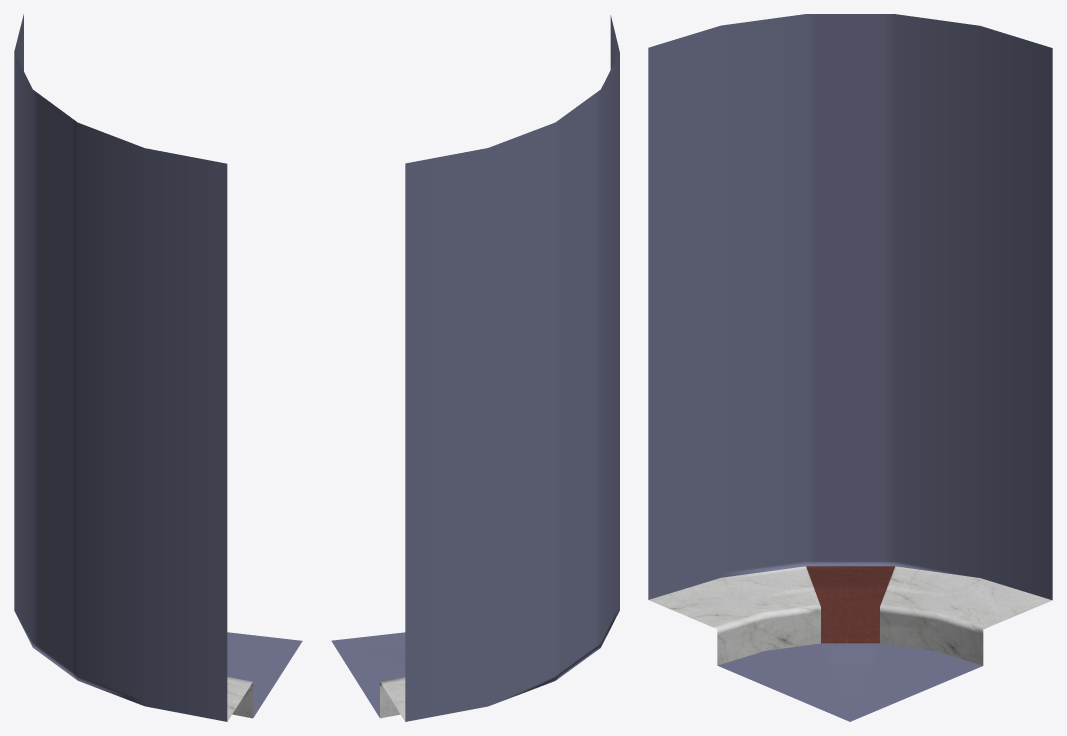
Rendered from dome_low 1.fbx.
The picture shows the model from 3 angles, left to right: view 1: azimuth 30°, elevation 25°; view 2: azimuth 150°, elevation 25°; view 3: azimuth 270°, elevation 25°; orthographic projection.
Visible parts, largest first — view 1: dome_low; view 2: dome_low; view 3: dome_low.
Boxes of the visible parts, x1,y1,x2,y2 form: dome_low: (14,14,302,721); dome_low: (331,15,619,721); dome_low: (648,14,1052,721).
Size of the model in its own units: 14.71 by 33.83 by 21.06.
2 materials, 1 textured.
